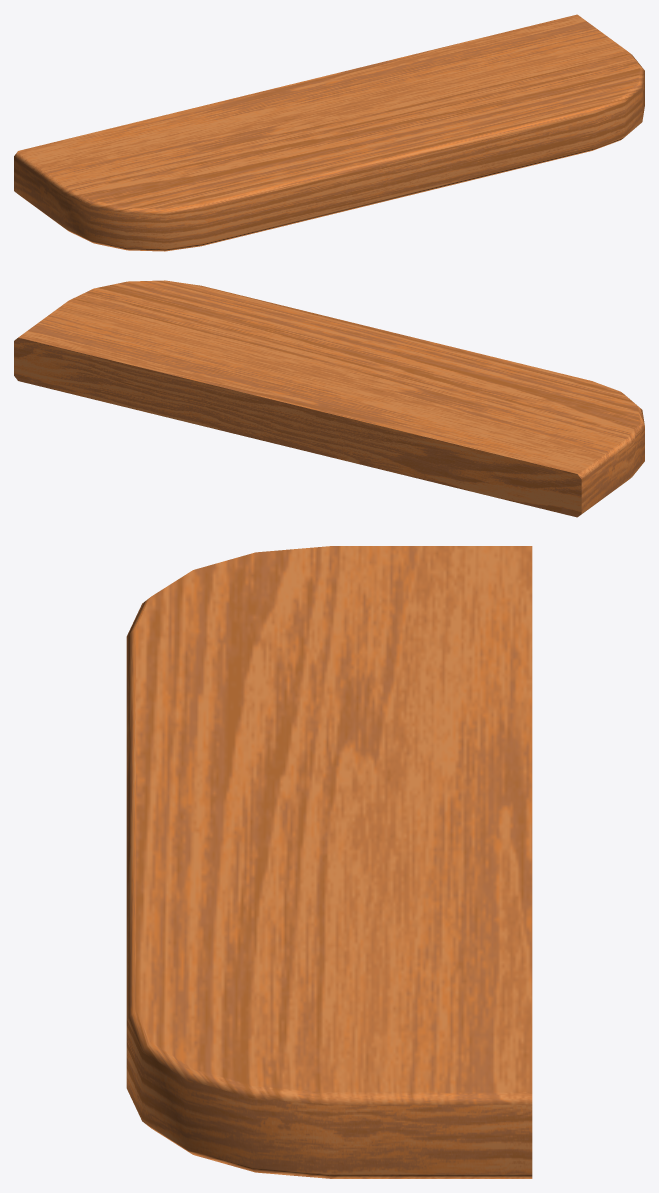
Rendered from shelf_001.fbx.
The picture shows the model from 3 angles, top to bottom: view 1: azimuth 30°, elevation 25°; view 2: azimuth 150°, elevation 25°; view 3: azimuth 270°, elevation 25°; orthographic projection. The views are drawn at different scales.
Visible parts, largest first — view 1: shelf_001; view 2: shelf_001; view 3: shelf_001.
Boxes of the visible parts, x1,y1,x2,y2 form: shelf_001: (14, 14, 644, 251); shelf_001: (14, 280, 644, 517); shelf_001: (126, 546, 532, 1178).
Bounding box in the file's own units: 138 × 42.55 × 10.06.
